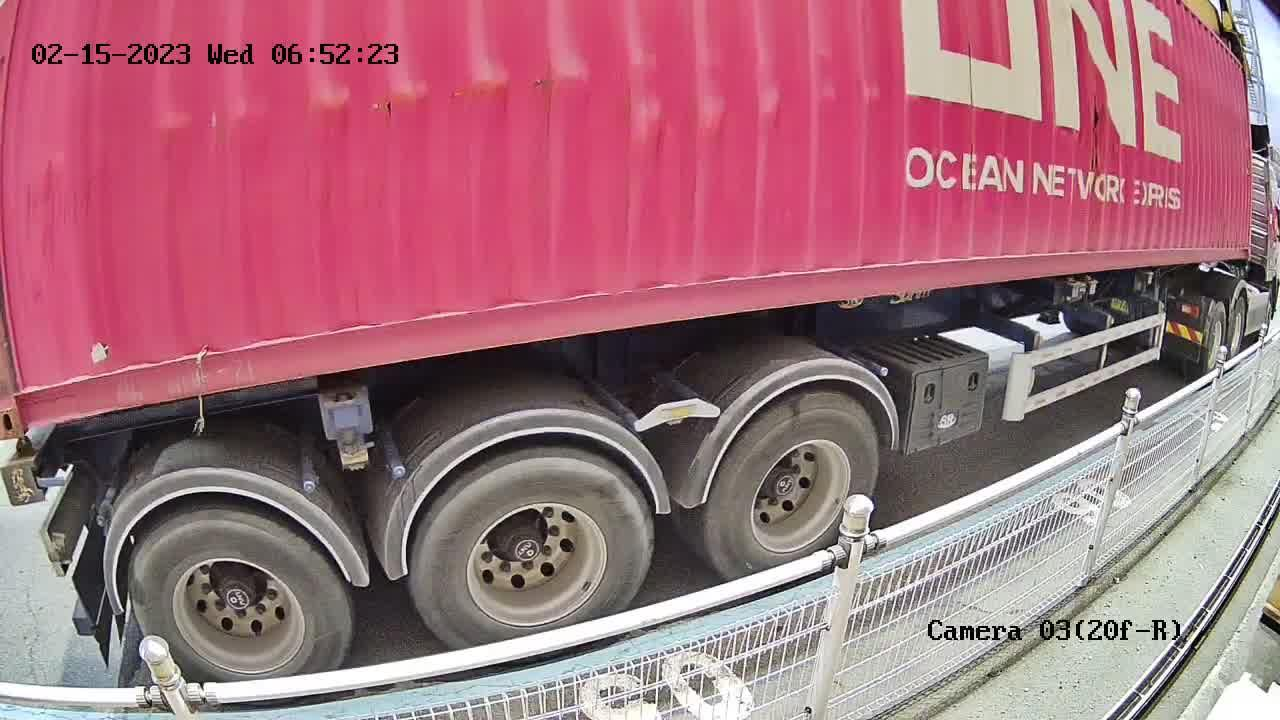Cone: (1, 432, 49, 510)
Hole_L: (0, 356, 78, 439)
Tire: (410, 445, 660, 647), (128, 511, 355, 679), (710, 397, 879, 579)
